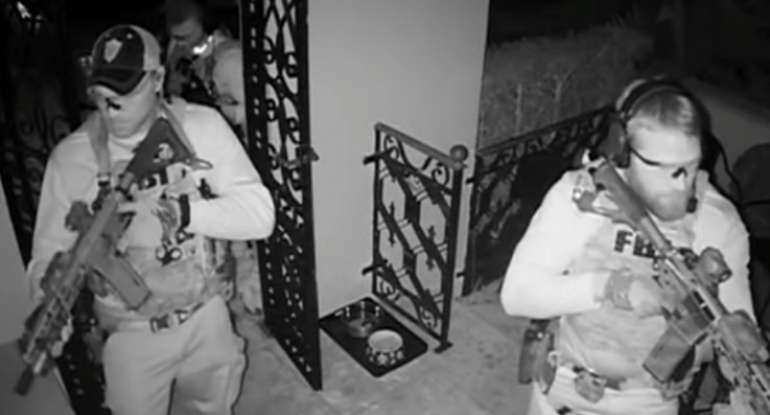rifle: (1, 115, 201, 401), (583, 149, 770, 415)
